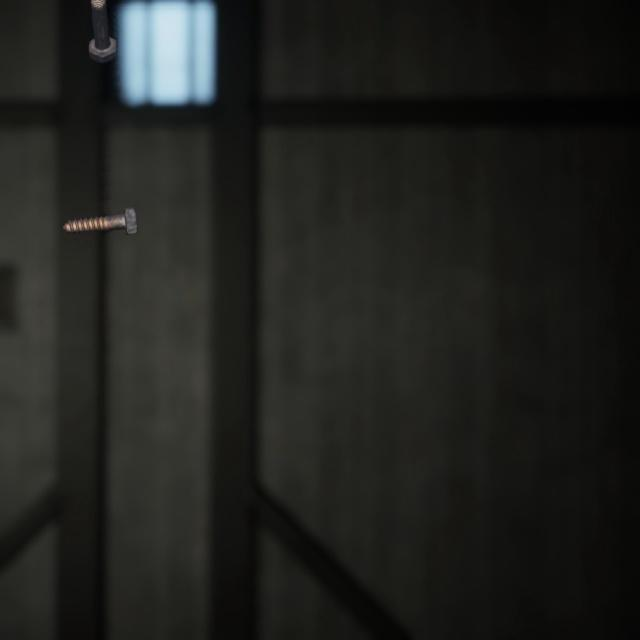bolt: (58, 187, 142, 223), (84, 0, 121, 60)
